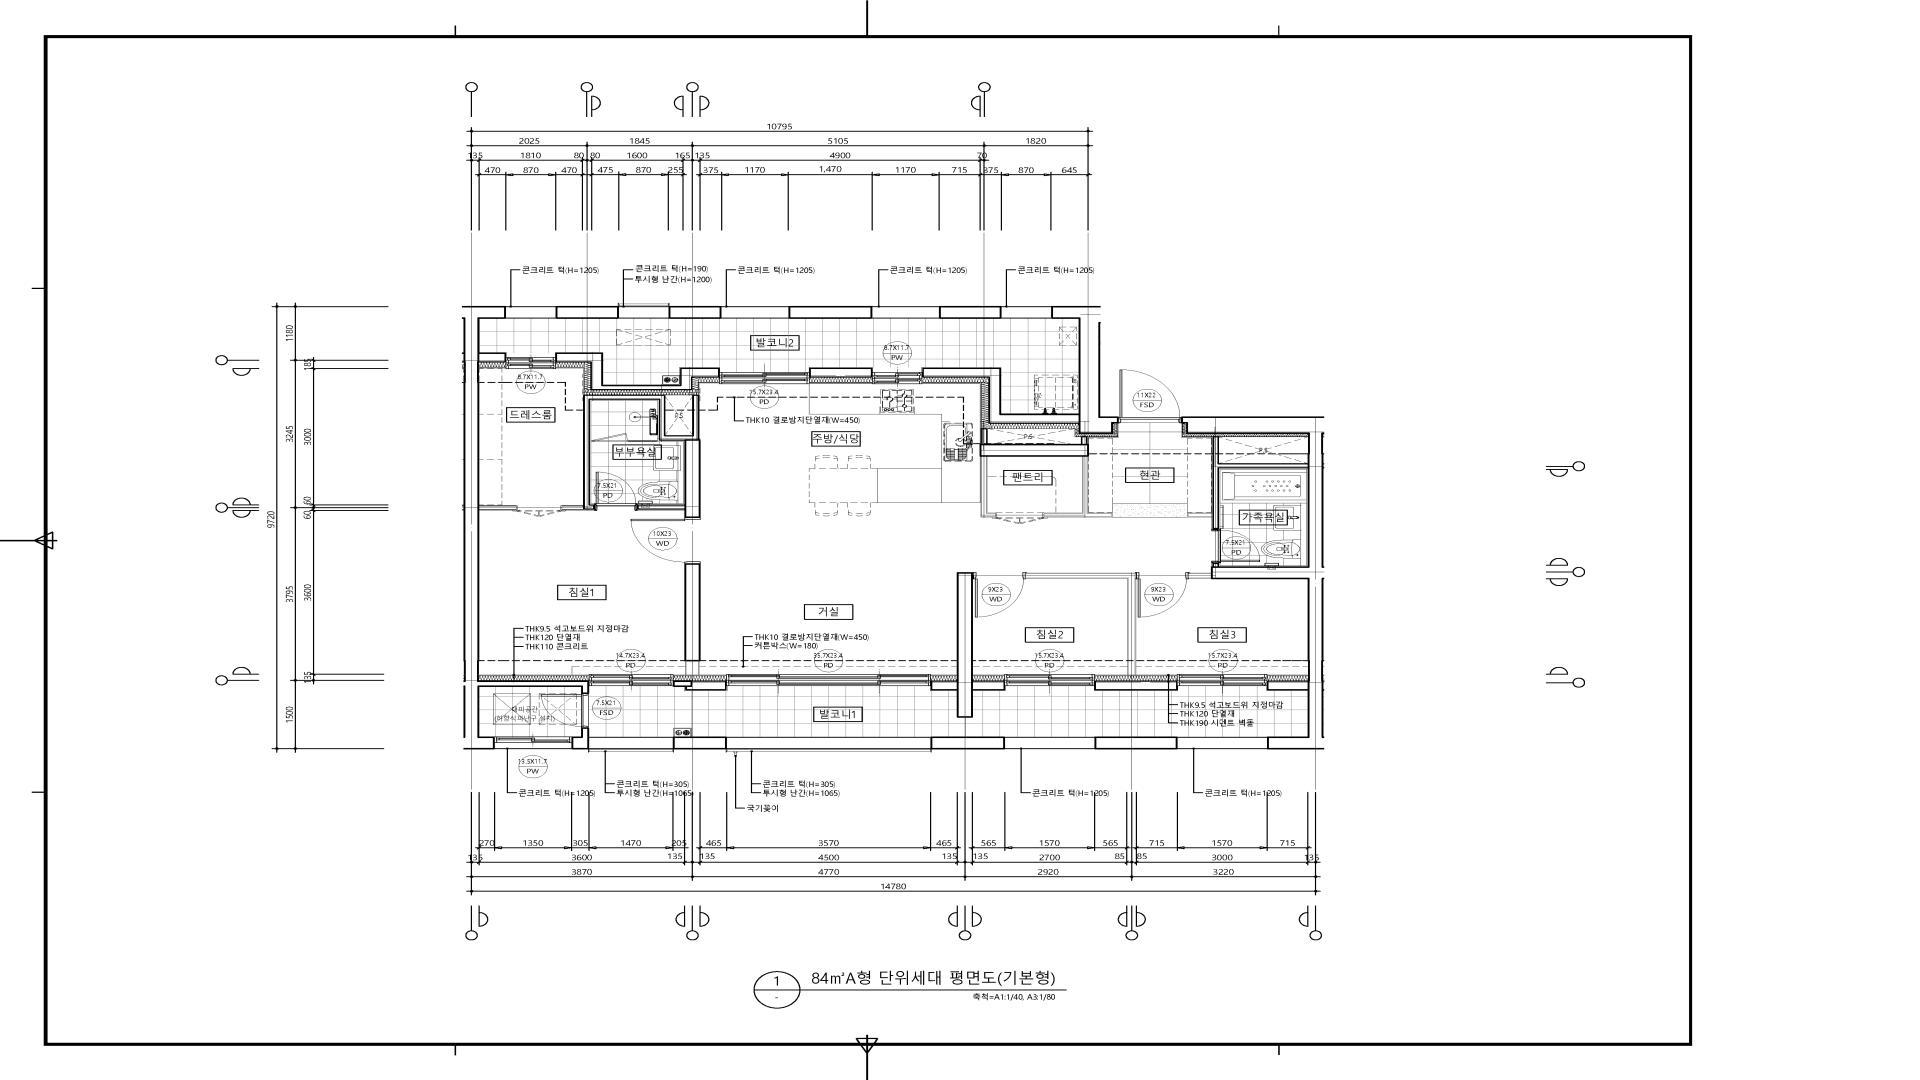background: (0, 0, 1920, 1079)
door: (1118, 369, 1182, 423), (632, 518, 700, 563), (1135, 572, 1188, 617), (973, 572, 1025, 617), (595, 472, 637, 510), (1212, 529, 1261, 562), (591, 433, 658, 442), (996, 513, 1044, 525), (517, 505, 562, 517)
wall: (463, 306, 589, 749), (1182, 417, 1324, 749), (922, 306, 1118, 434), (562, 394, 700, 518), (980, 429, 1113, 517), (1025, 572, 1137, 675), (931, 572, 1005, 717), (1212, 436, 1308, 529), (555, 352, 720, 390), (684, 563, 700, 675), (789, 306, 873, 319), (1095, 737, 1178, 749), (931, 736, 1005, 749), (939, 306, 1002, 319), (555, 306, 618, 319), (1095, 680, 1178, 690), (673, 736, 727, 749), (669, 306, 721, 319), (808, 368, 873, 377), (673, 680, 727, 691), (571, 728, 589, 749), (479, 505, 517, 510), (1188, 572, 1211, 579)
window: (727, 737, 931, 752), (727, 674, 931, 686), (588, 737, 674, 752), (1005, 737, 1095, 749), (551, 618, 641, 630), (1178, 737, 1267, 749), (1005, 674, 1095, 686), (1178, 674, 1267, 686), (720, 372, 810, 384), (588, 674, 674, 686), (495, 737, 572, 749), (721, 306, 789, 319), (872, 306, 939, 318), (618, 303, 669, 318), (505, 306, 555, 319), (1002, 306, 1051, 319), (872, 372, 922, 384), (505, 357, 555, 369)
